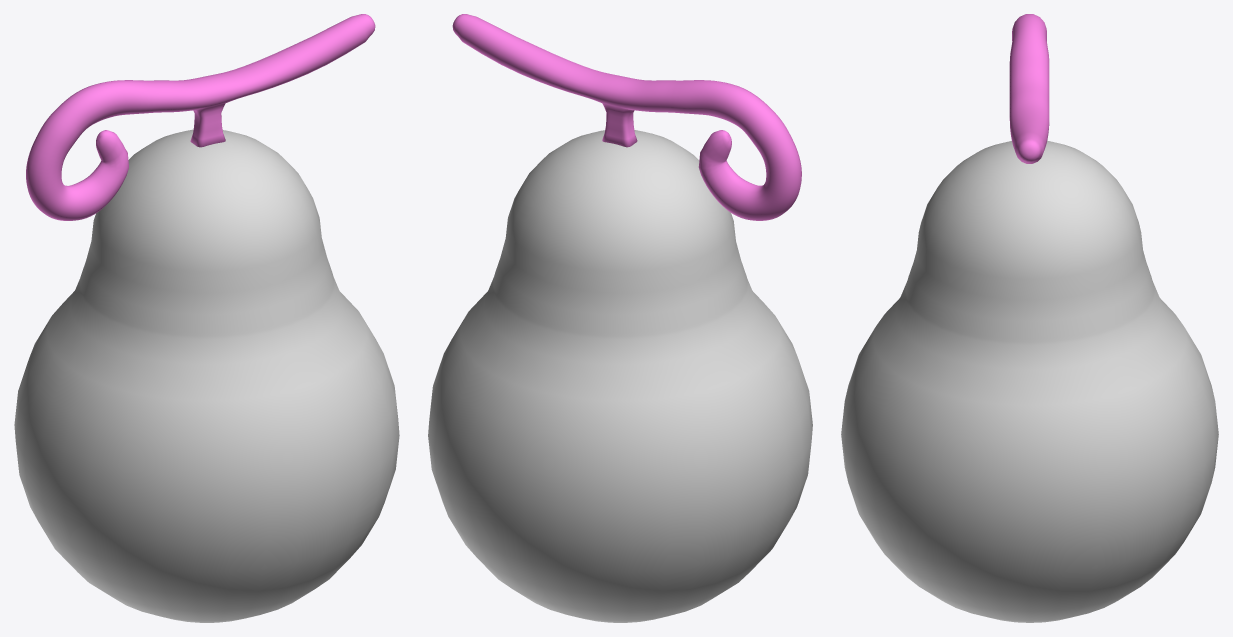
Rendered from dfdf.glb.
3 renders of one model, left to right at view 1: azimuth 30°, elevation 25°; view 2: azimuth 150°, elevation 25°; view 3: azimuth 270°, elevation 25°, orthographic. The views are drawn at different scales.
Visible parts, largest first — view 1: Sphere_2, NurbsPath_3; view 2: Sphere_2, NurbsPath_3; view 3: Sphere_2, NurbsPath_3.
Part boxes in pixels (x1,y1,x2,y2): Sphere_2: (14,129,399,622); NurbsPath_3: (26,14,375,220); Sphere_2: (428,130,812,622); NurbsPath_3: (452,14,801,220); Sphere_2: (841,140,1218,622); NurbsPath_3: (1009,14,1049,163).
Bounding box in the file's own units: 2.07 × 3.16 × 2.
